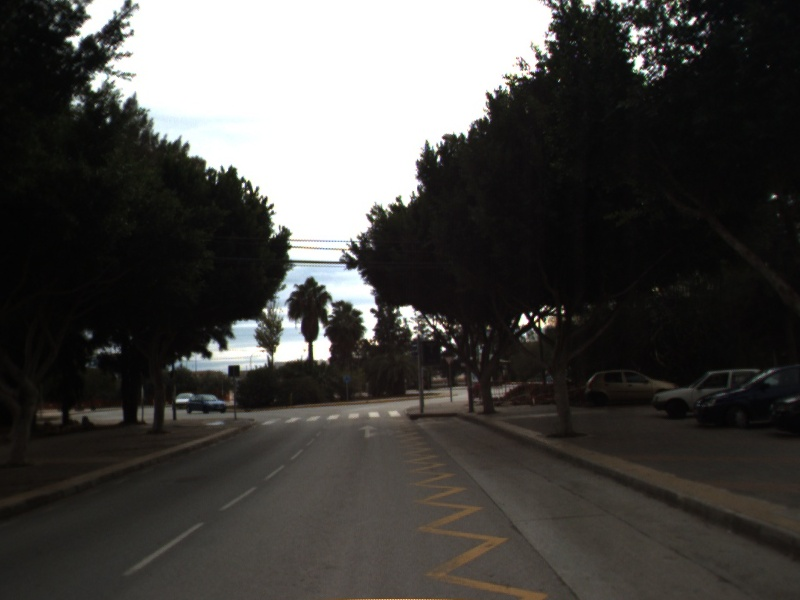STRAIGHT_RIGHT: (356, 423, 396, 440)
